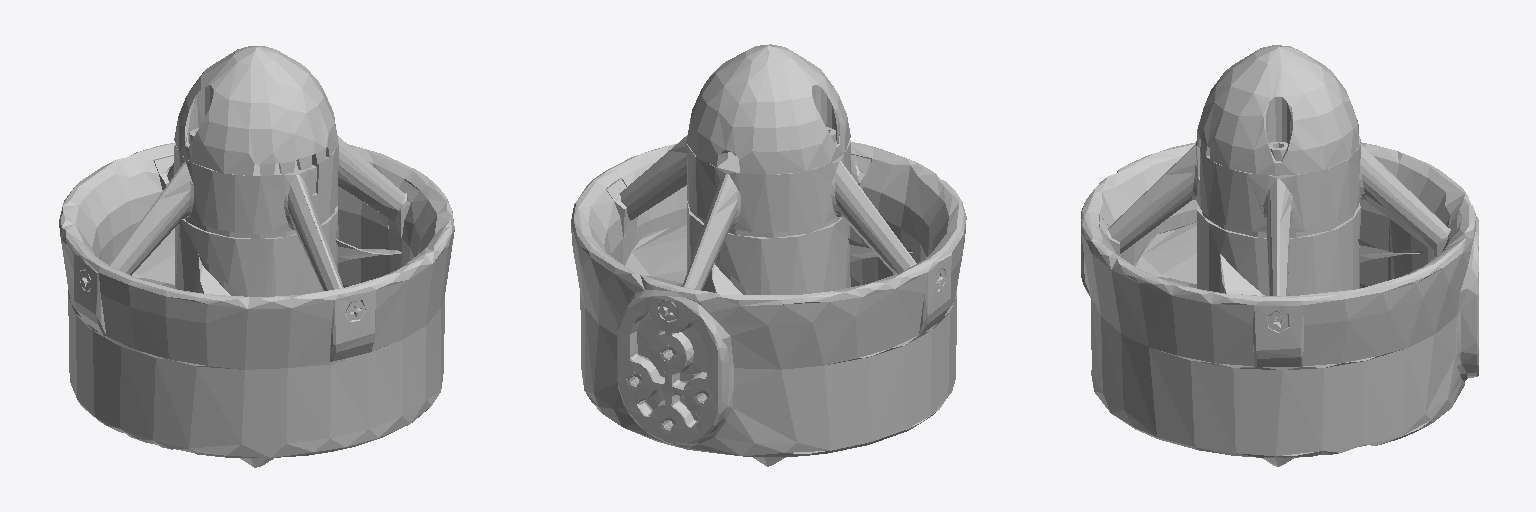
File: thruster_sb.obj
The picture shows the model from 3 angles: view 1: azimuth 30°, elevation 25°; view 2: azimuth 150°, elevation 25°; view 3: azimuth 270°, elevation 25°; orthographic projection.
Bounding box in the file's own units: 0.0966 × 0.1127 × 0.0973.